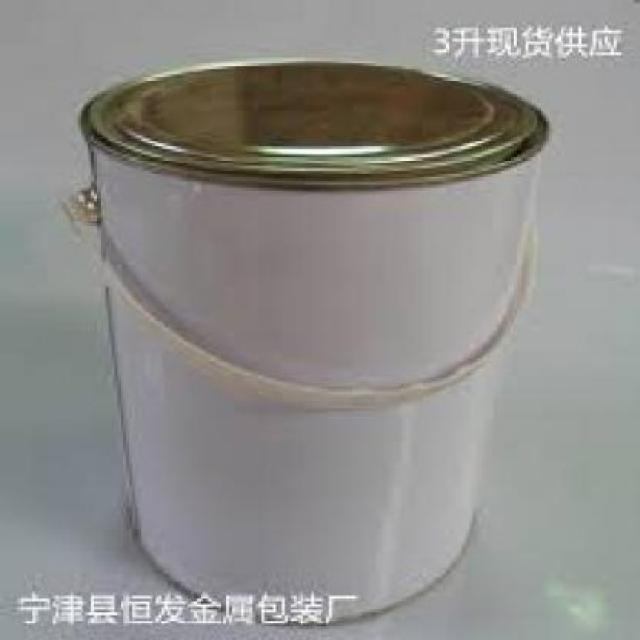METAL: (62, 54, 549, 624)
